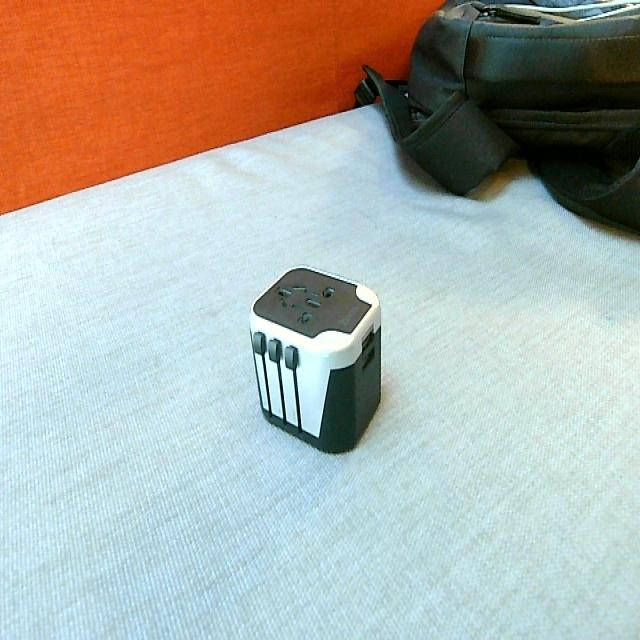adapter: (247, 264, 382, 453)
